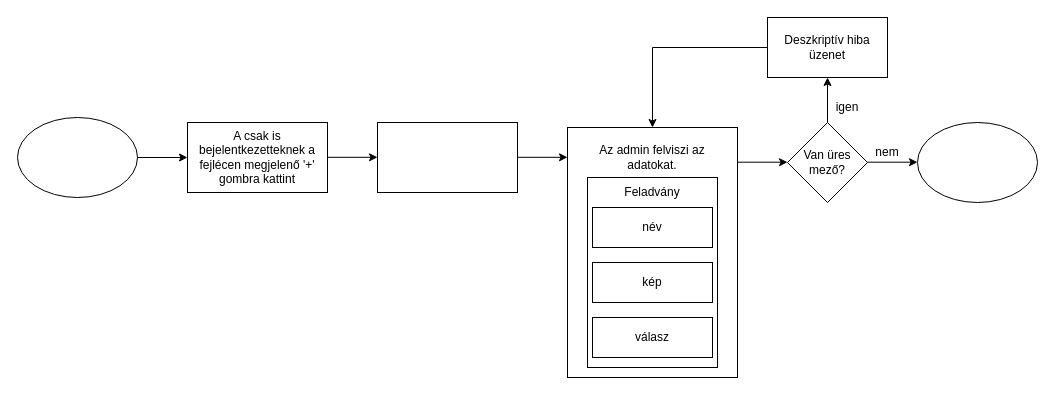
Some shapes in this 1055 by 395 pixel diagram are drawn without their labels. Here are the shapes that lost their labels. From the top down, the centre of each, then its label:
At point 77,157: "Az admin szeretne létrhozni egy quizt".
At point 447,157: "Átirányítódik a hozzáadási ürlapra.".
At point 977,162: "A játék felkerül az adatbázisba.".
